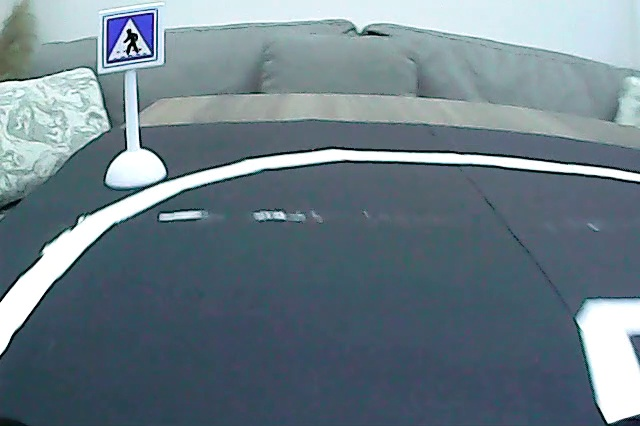pedestrian crossing: (101, 8, 159, 68)
